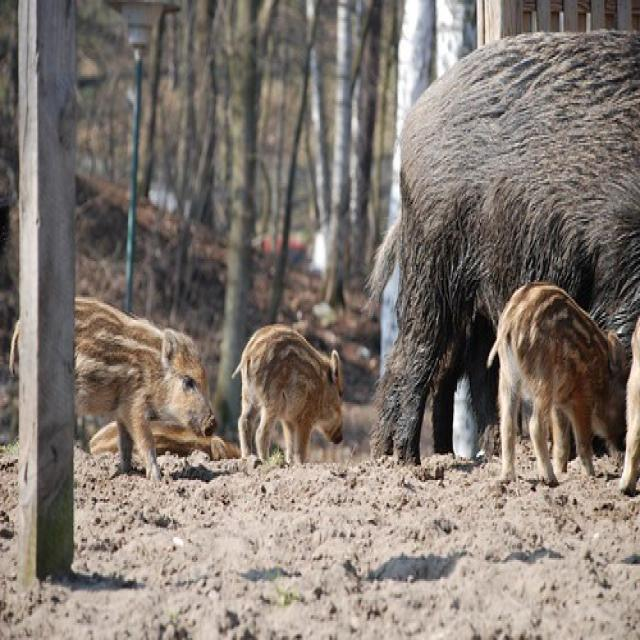boar: (354, 17, 640, 483), (3, 283, 228, 498), (482, 273, 629, 491), (232, 320, 354, 471)
